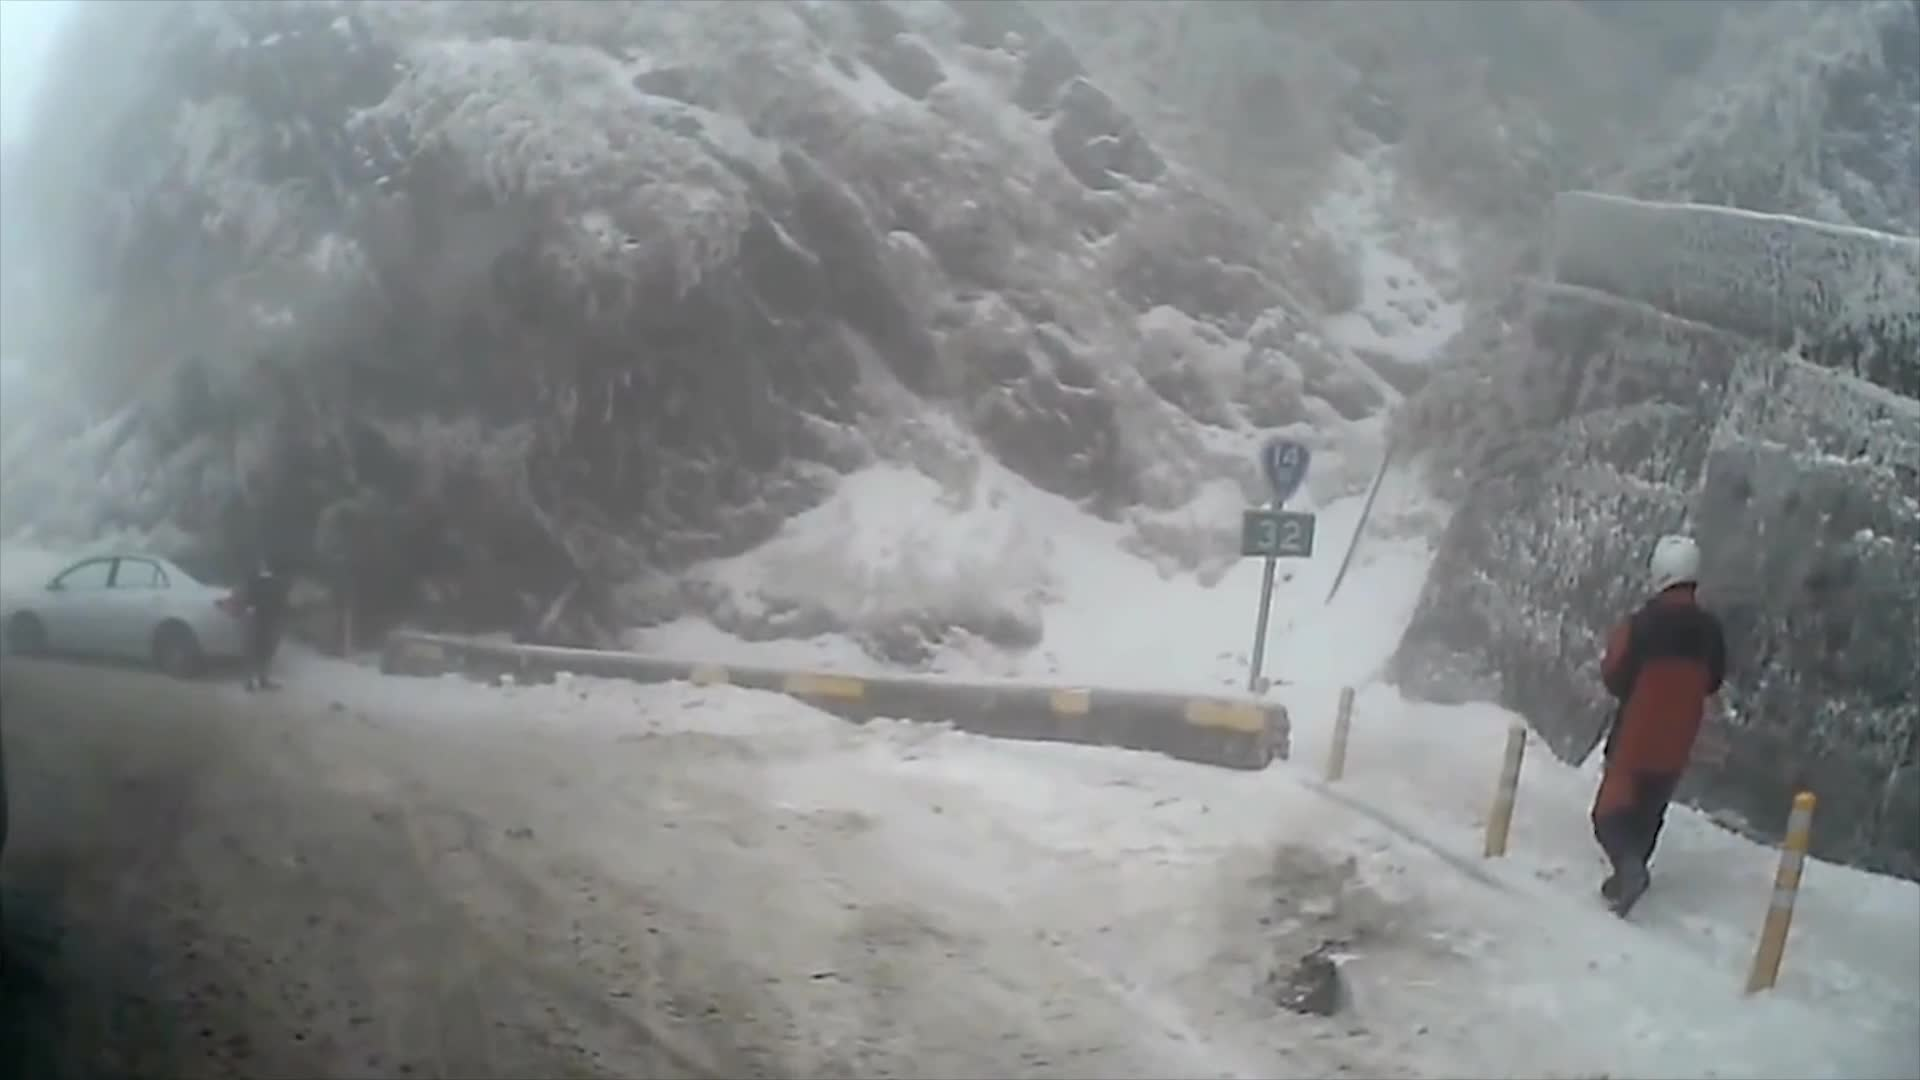pedestrian: (1587, 530, 1727, 915), (235, 566, 289, 698)
vehicle: (0, 547, 259, 676)
